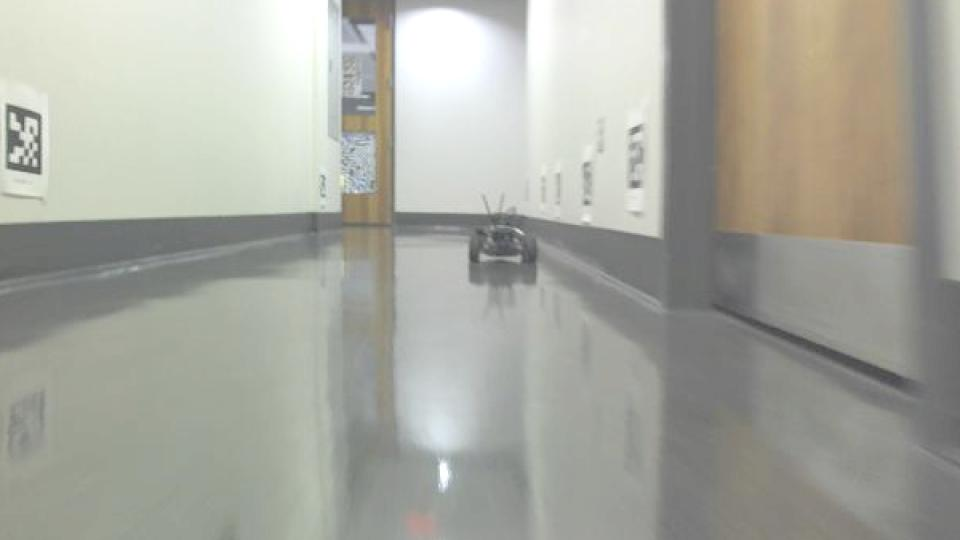car: (464, 190, 541, 272)
